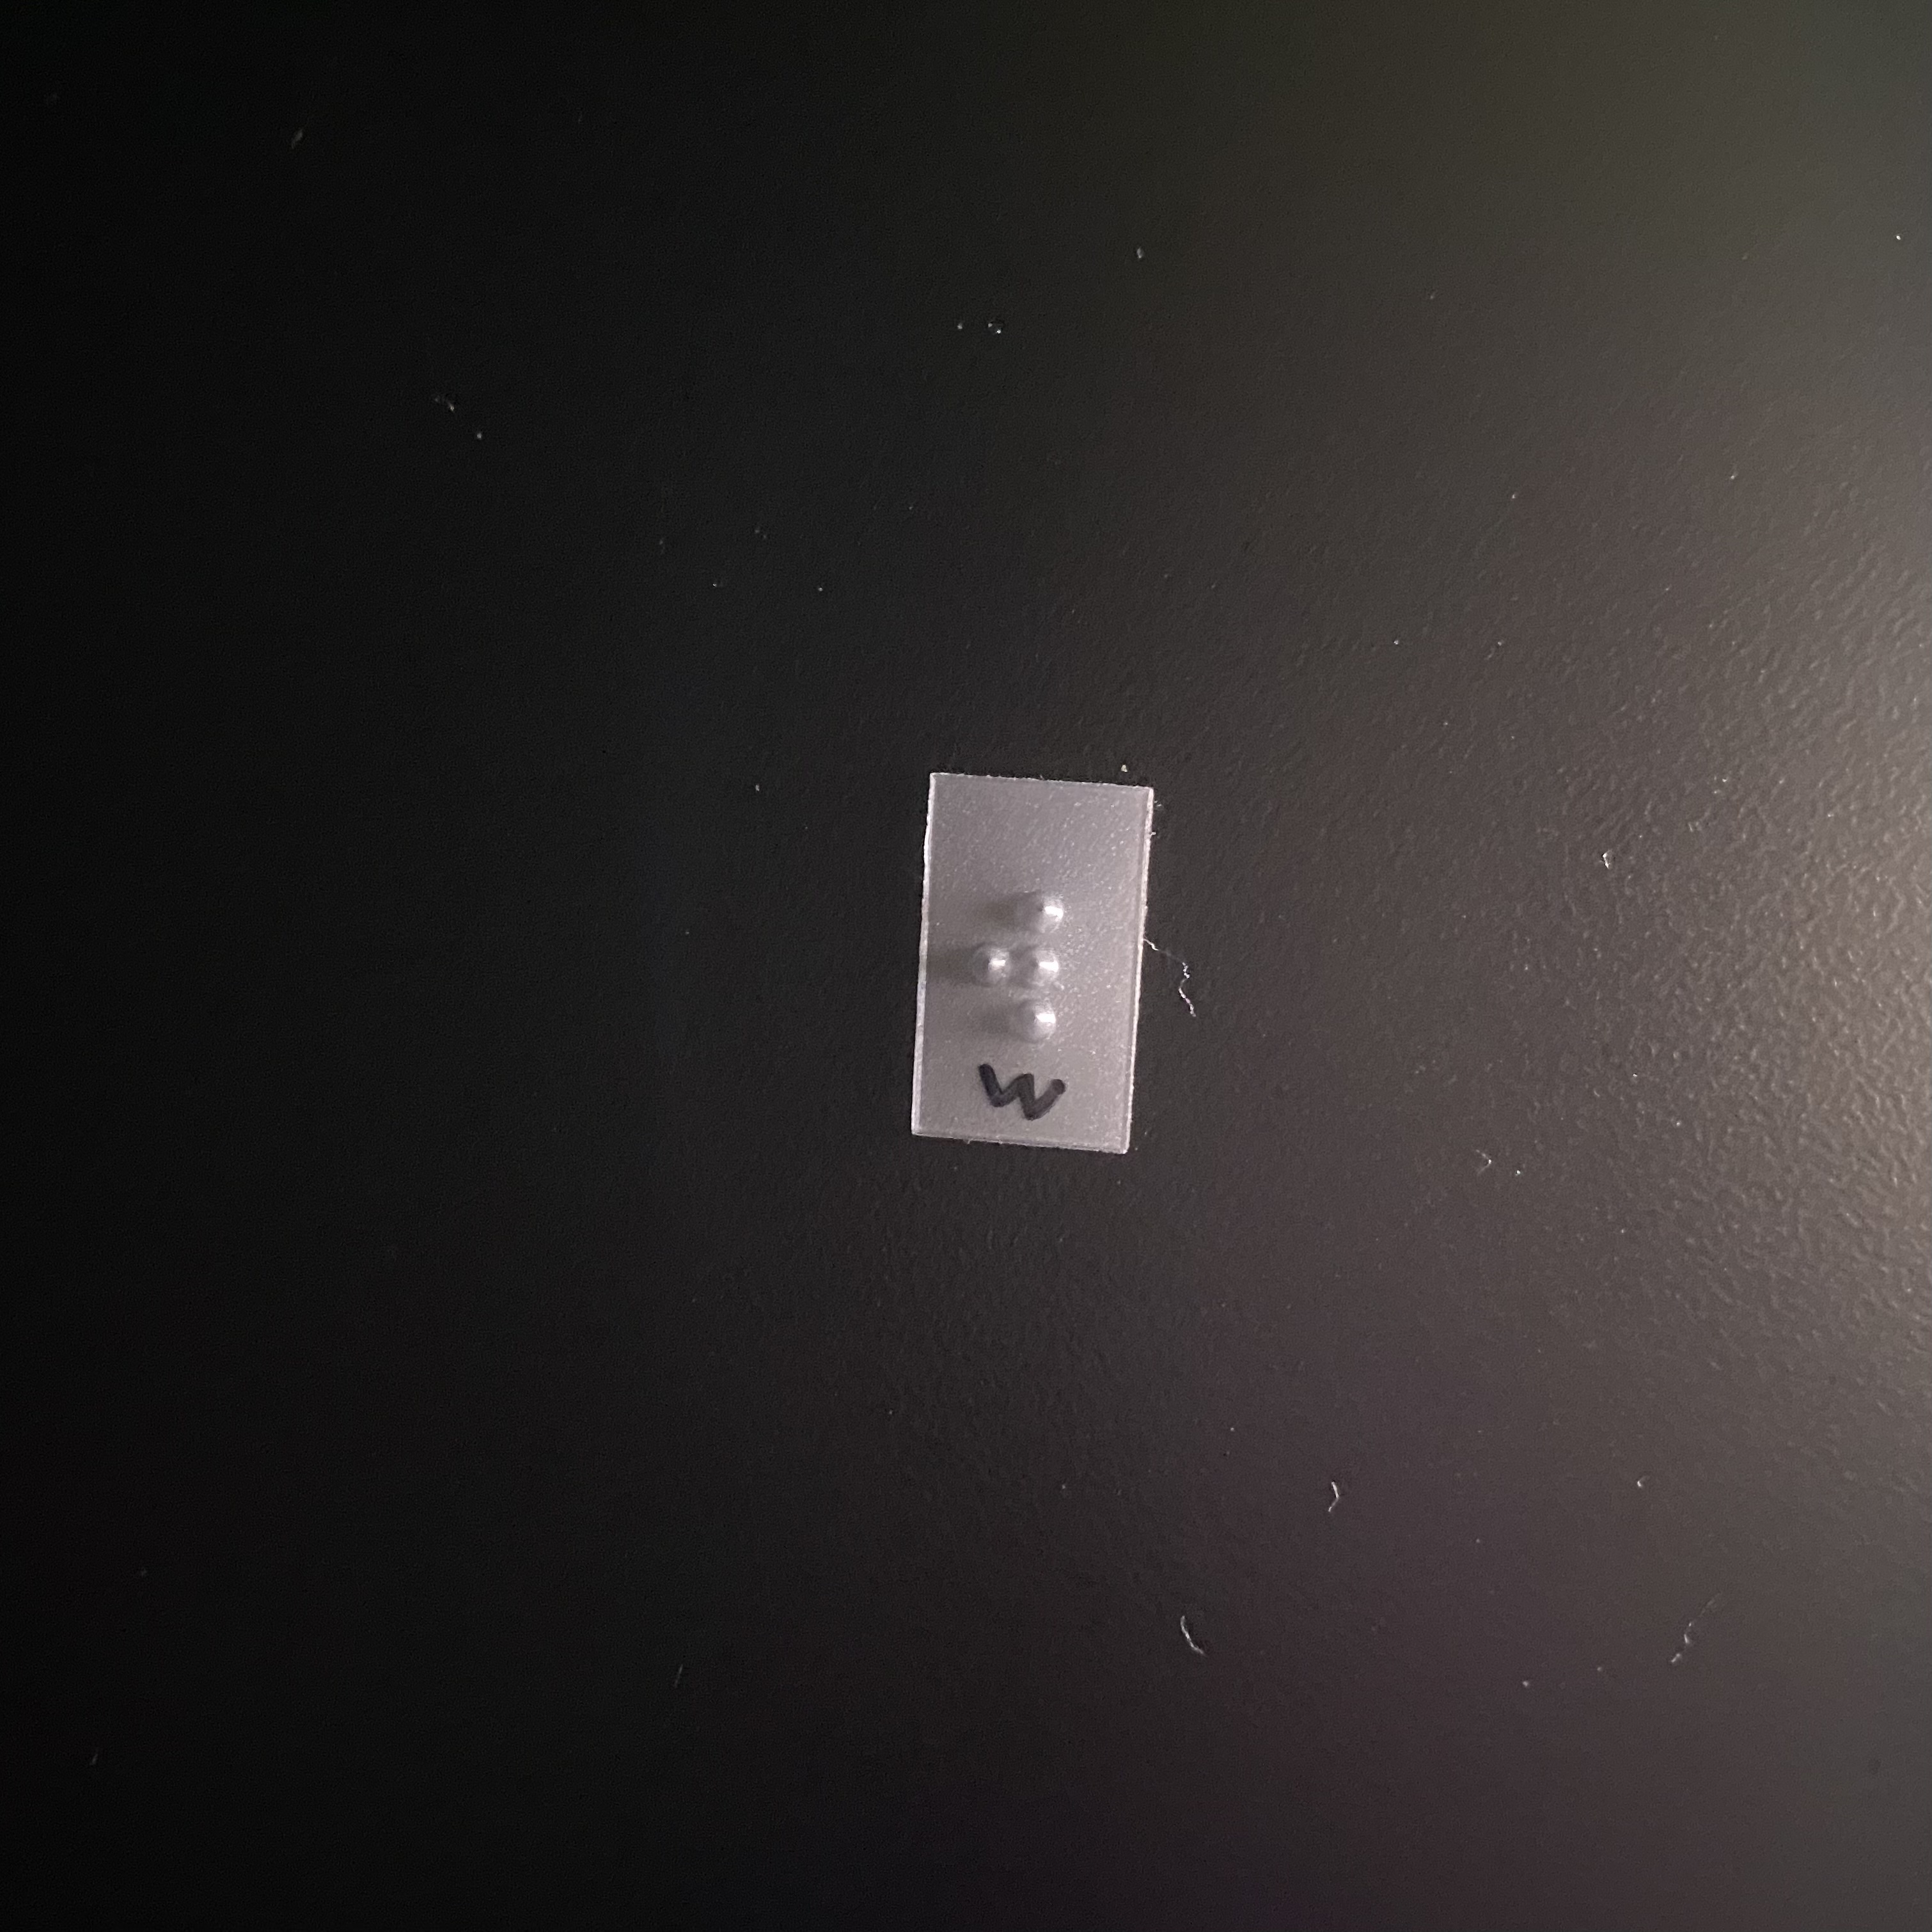w: (946, 883, 1083, 1048)
